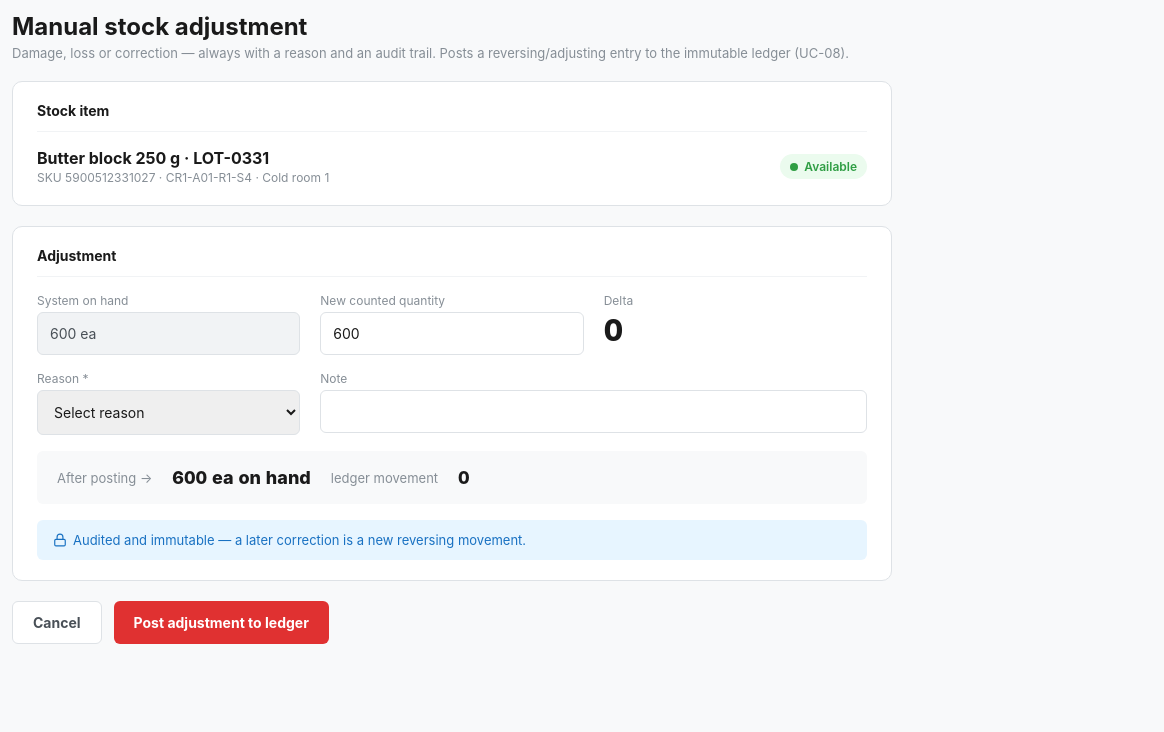
Test case: AdjustmentScreen › refuses a negative quantity — invariant #3 (never below zero)
Replace the text in the number field labelled "New counted quantity" with "-5" at (452, 334), box [320,312,584,355]
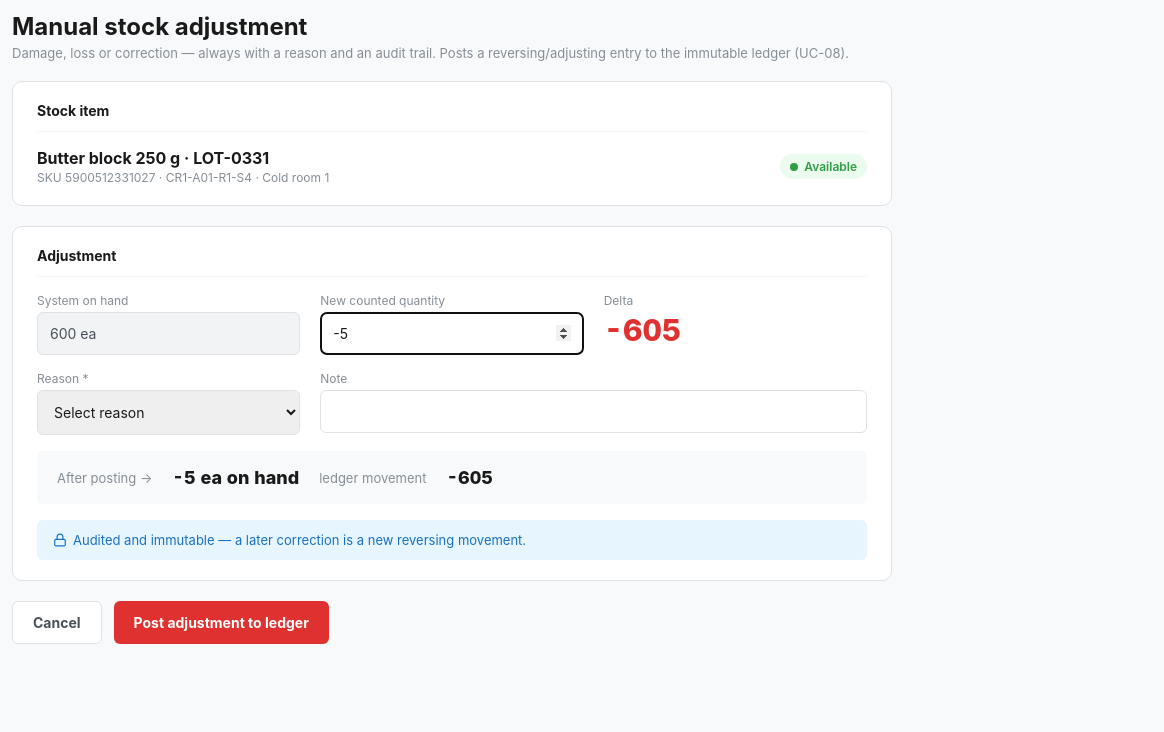
// pick a reason so only the quantity is invalid
Select "Damage" in the dropdown labelled "Reason *" at (169, 412), box [37,390,300,435]
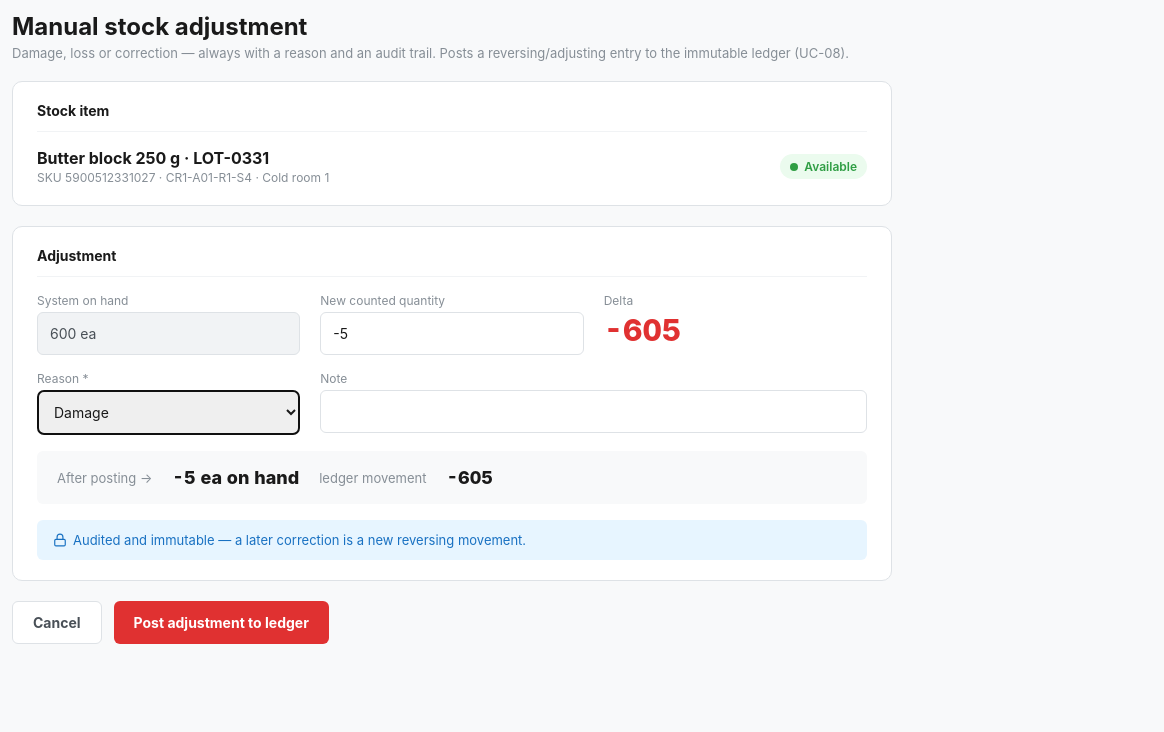
Click the button "Post adjustment to ledger" at (221, 622), box [114,601,329,644]
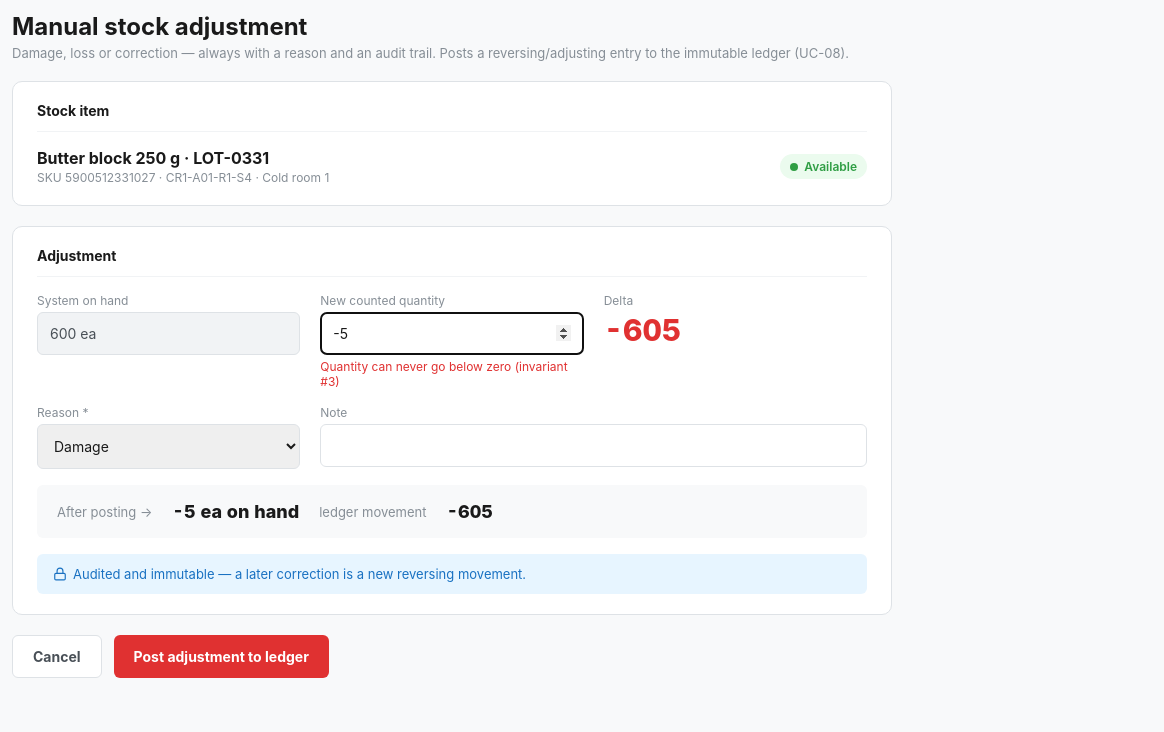
Expected: the text "Quantity can never go below zero (invariant #3)" is shown, [320,359,584,389]
